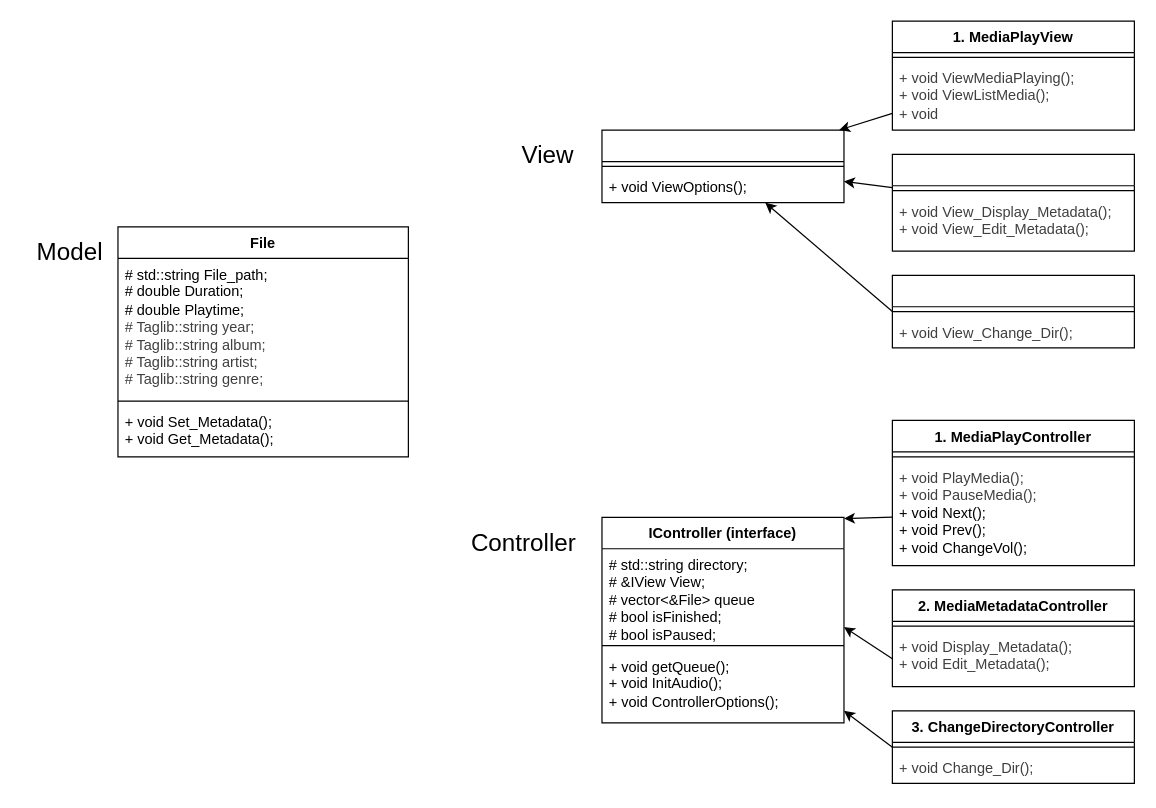
The diagram is 1156 pixels wide and 808 high, and some of its shapes have lost their labels. Each missing label, with the box of its shape:
2. MediaMetadataView: (891, 153, 1134, 251)
3. ChangeDirectoryView: (891, 274, 1134, 348)
IView (interface): (601, 129, 844, 203)
